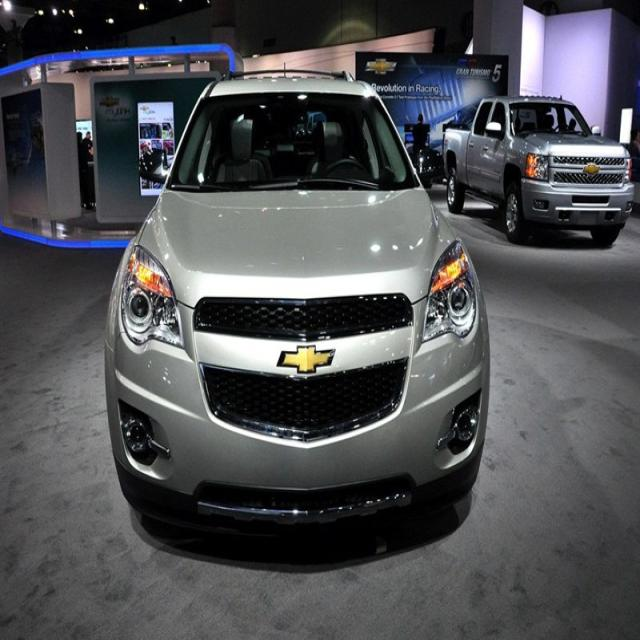front_bumper: (101, 328, 492, 522)
front_glass: (165, 89, 422, 193)
front_left_side_light: (420, 238, 478, 347)
front_left_side_mirror: (414, 148, 435, 187)
front_right_side_light: (120, 244, 186, 351)
front_right_side_mirror: (140, 147, 170, 184)
